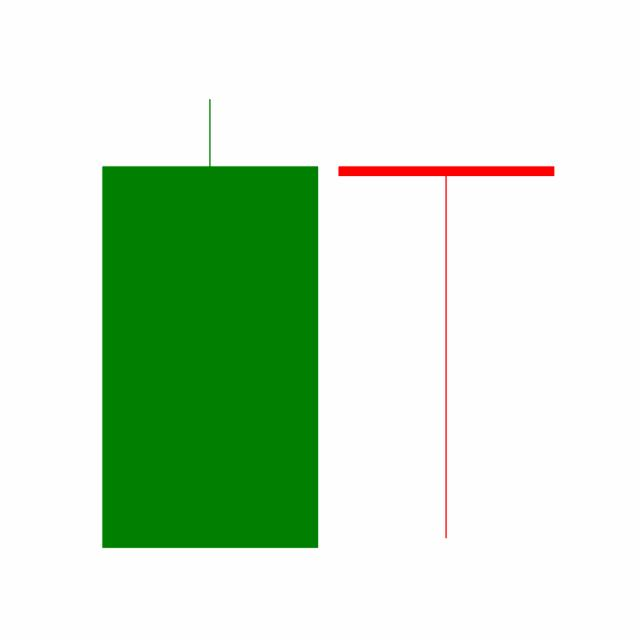Dragonfly Doji: (327, 161, 565, 542)
